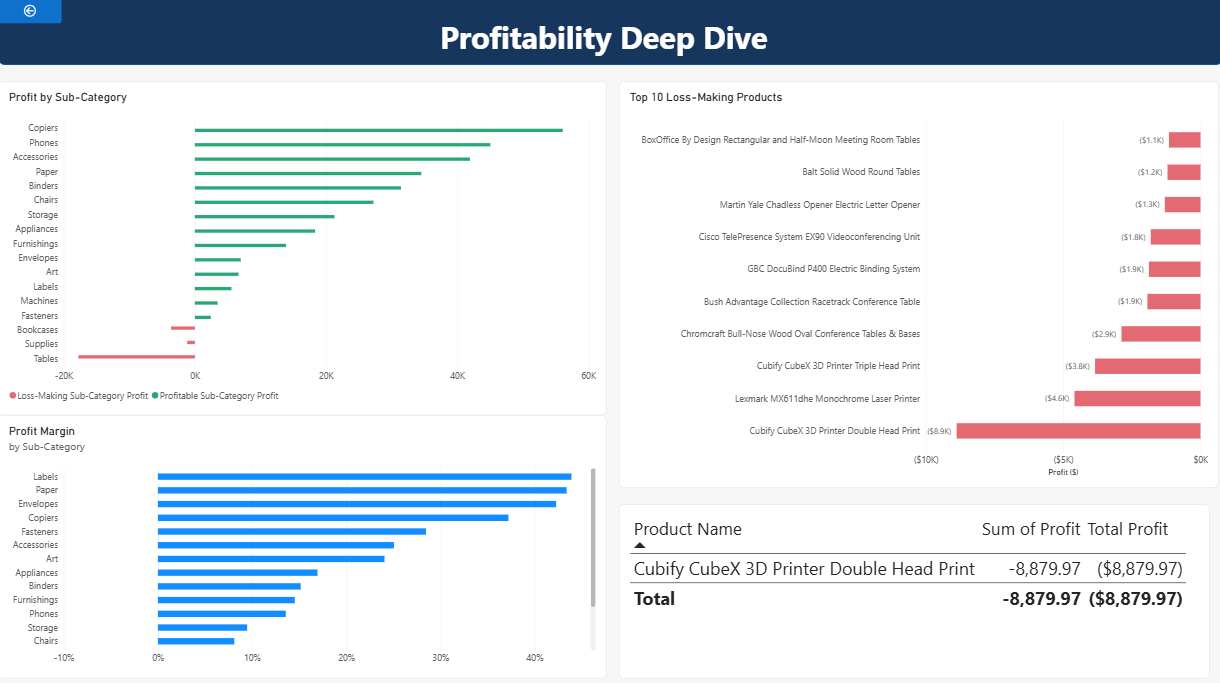

Layout of this report page (visuals, bound fields, positions):
{"tool":"powerbi","page":{"name":"Profitability Deep Dive","canvas":[1920,1080],"ordinal":1},"visuals":[{"type":"shape","box":[0,0,1920,105],"z":0},{"type":"textbox","box":[693,27.7,522.3,65.7],"z":1000},{"type":"clusteredBarChart","title":"Profit by Sub-Category","fields":{"Category":["orders_import.Sub-Category"],"Y":["orders_import.Loss-Making Sub-Category Profit","orders_import.Profitable Sub-Category Profit"]},"box":[0,129.4,954.3,524.1],"z":1001},{"type":"clusteredBarChart","title":"Top 10 Loss-Making Products","fields":{"Category":["orders_import.Product Name"],"Y":["orders_import.Loss Ranking"]},"box":[954.3,129.4,959.2,936.5],"z":1002},{"type":"clusteredBarChart","fields":{"Category":["orders_import.Sub-Category"],"Y":["orders_import.Profit Margin"]},"box":[0,653,954,413],"z":1003}]}

Visuals, with their boxes in screenshot pixels (x1, y1, x2, y2), scaled from the page's 1920x1080 canvas onto the 1220x683 screenshot:
shape: x1=0 y1=0 x2=1219 y2=66
textbox: x1=440 y1=18 x2=772 y2=59
"Profit by Sub-Category" clusteredBarChart: x1=0 y1=82 x2=606 y2=413
"Top 10 Loss-Making Products" clusteredBarChart: x1=606 y1=82 x2=1216 y2=674
clusteredBarChart - orders_import.Sub-Category x orders_import.Profit Margin: x1=0 y1=413 x2=606 y2=674
